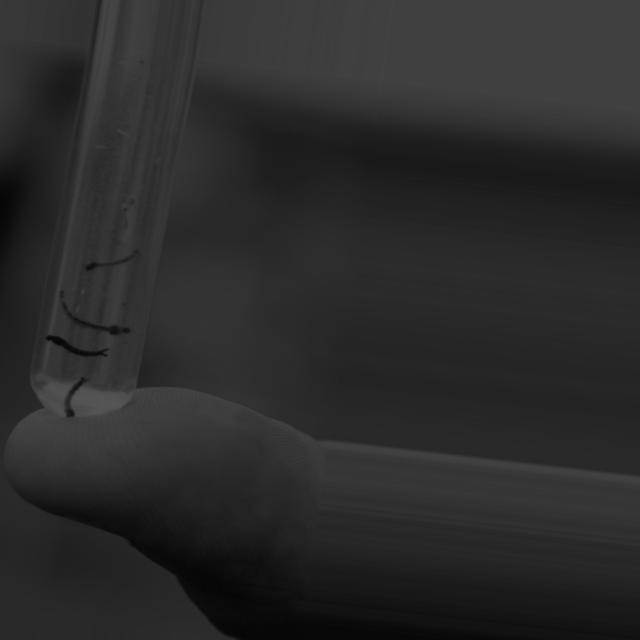larvas: (65, 286, 137, 336), (58, 372, 96, 416), (47, 329, 105, 356), (82, 252, 137, 270)
